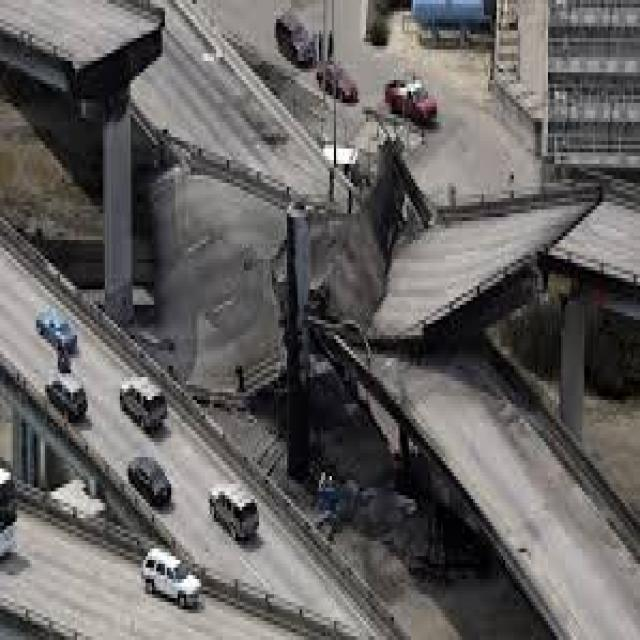bridge collapse: (87, 0, 568, 452)
